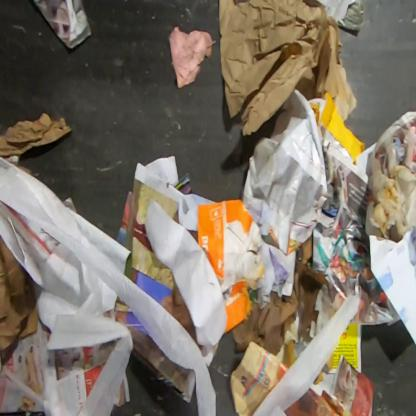cardboard: (197, 198, 266, 336), (0, 233, 39, 362), (0, 112, 74, 158)
